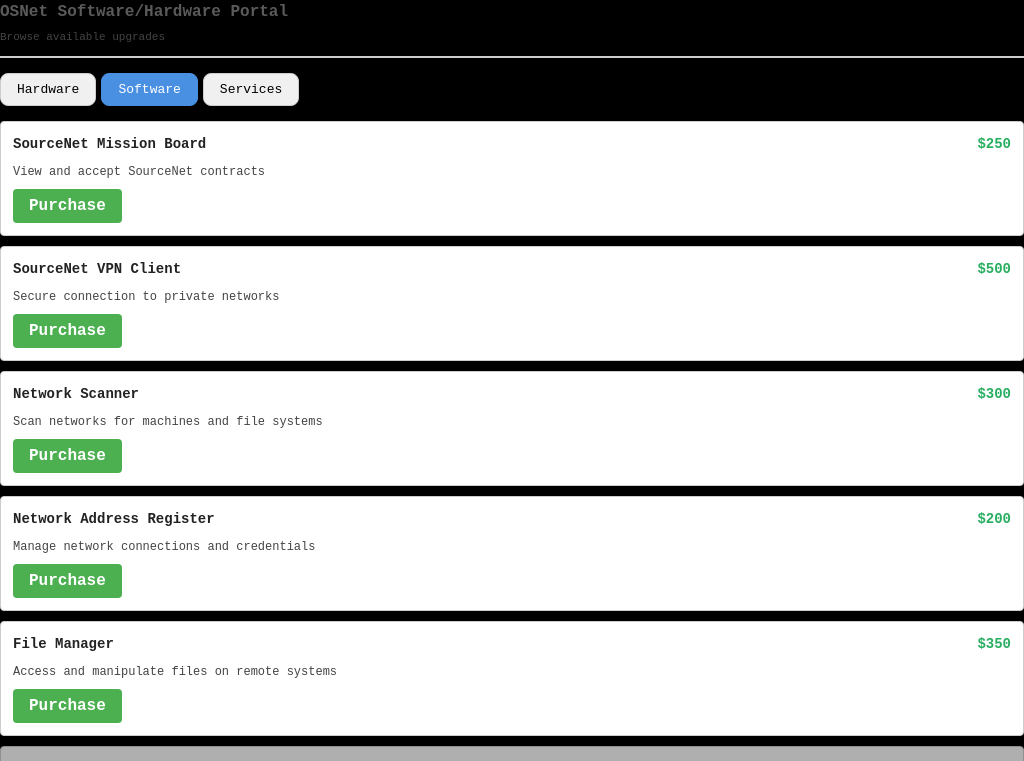
Test: Portal Component › should display hardware items with prices
Switch to Hardware tab (Software is default)
Click the button "Hardware" at coordinates (48, 89), box [0,72,96,106]
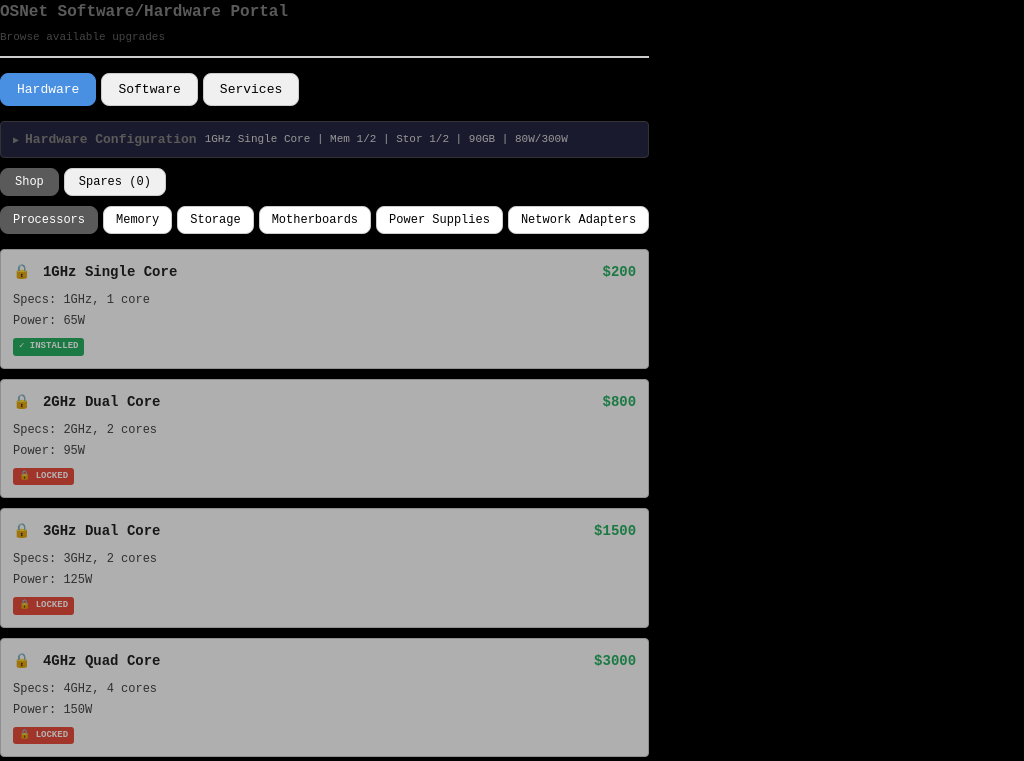
Expected: the text "$800" is shown, [602,392,636,412]
Expected: the text "✓ Installed" is shown, [13,338,84,356]
Expected: the text "2GHz Dual Core" is shown, [43,394,160,410]
